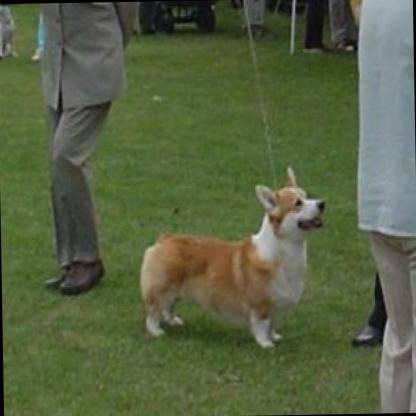Pembroke: (132, 160, 332, 352)
